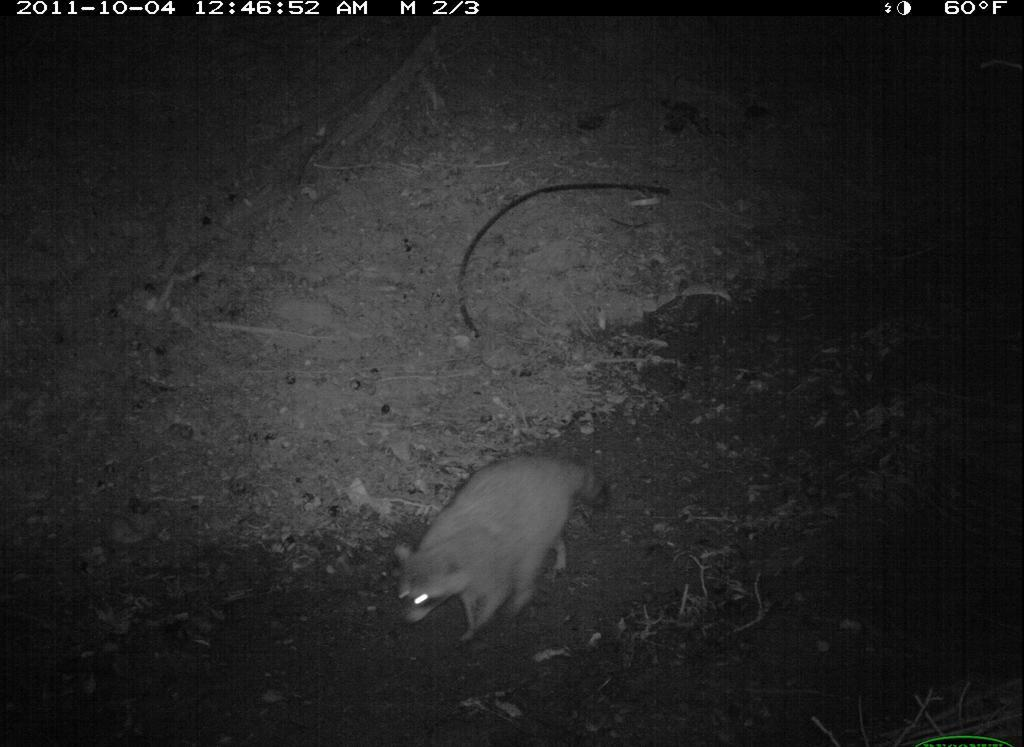raccoon: (387, 451, 617, 655)
